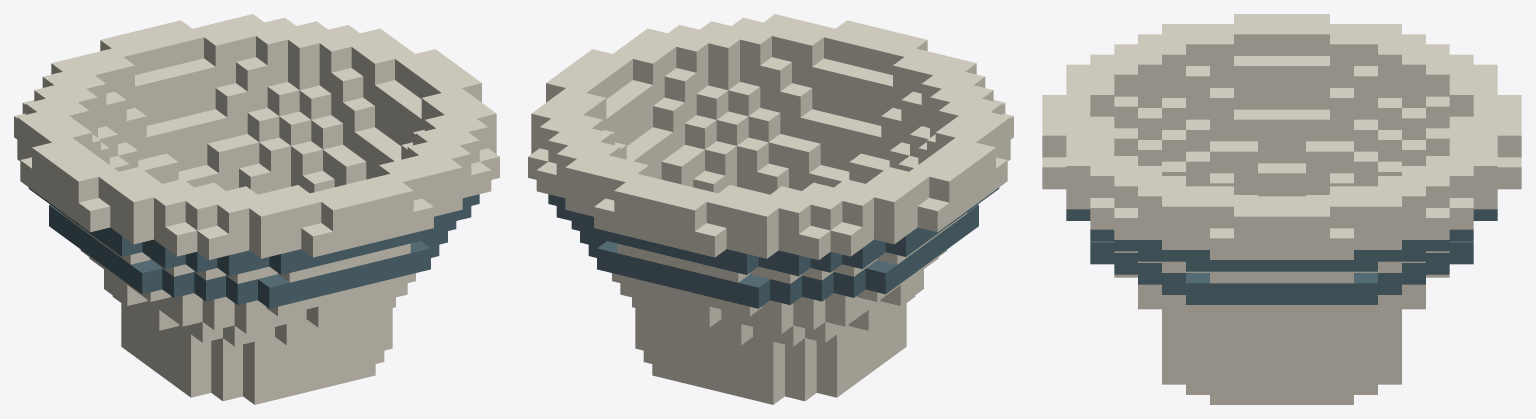
File: CHAR-182.glb
3 views of the same model, side by side, from view 1: azimuth 30°, elevation 25°; view 2: azimuth 150°, elevation 25°; view 3: azimuth 270°, elevation 25° (orthographic). The views are drawn at different scales.
Visible parts, largest first — view 1: 角色手持餐碗母版; view 2: 角色手持餐碗母版; view 3: 角色手持餐碗母版.
Boxes of the visible parts, box(x1,y1,x2,y2) form: 角色手持餐碗母版: box(14, 14, 499, 404); 角色手持餐碗母版: box(528, 14, 1013, 404); 角色手持餐碗母版: box(1042, 14, 1521, 404).
Size of the model in its own units: 0.2 by 0.11 by 0.2.
Materials: 2 (2 with a texture image).
